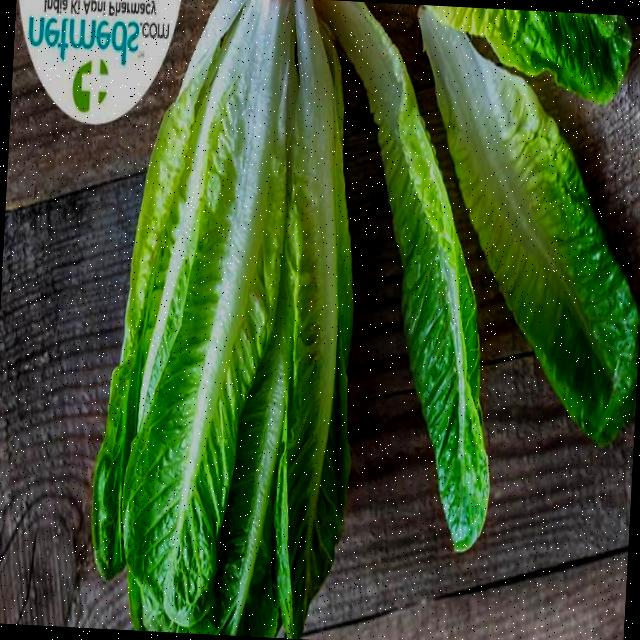healthy: (134, 112, 336, 581)
